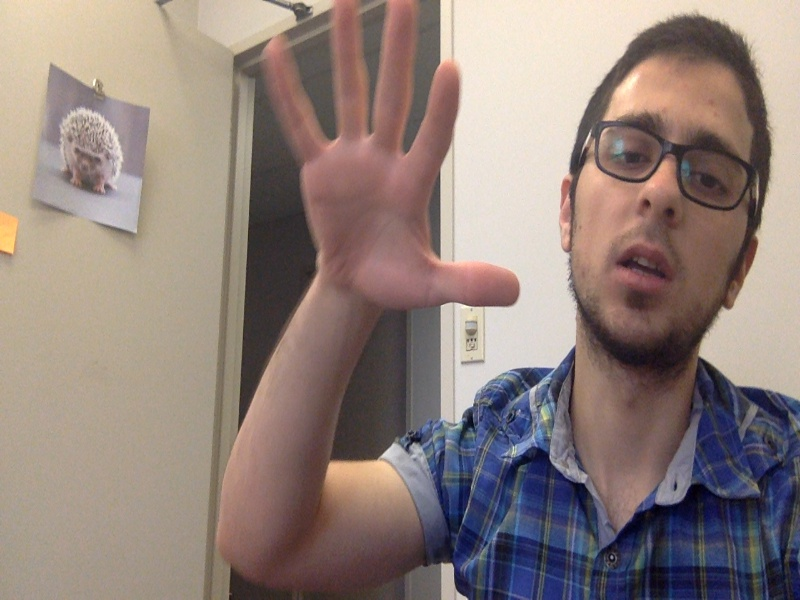5-hand: (250, 2, 521, 311)
